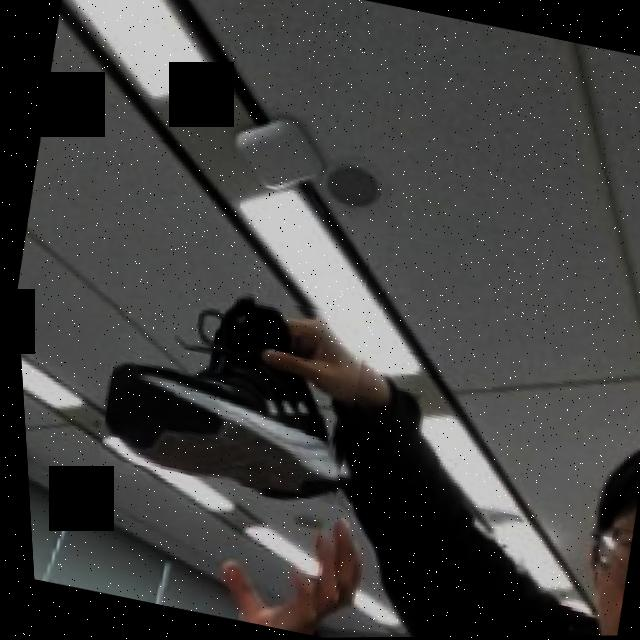shoe: (85, 266, 375, 508)
